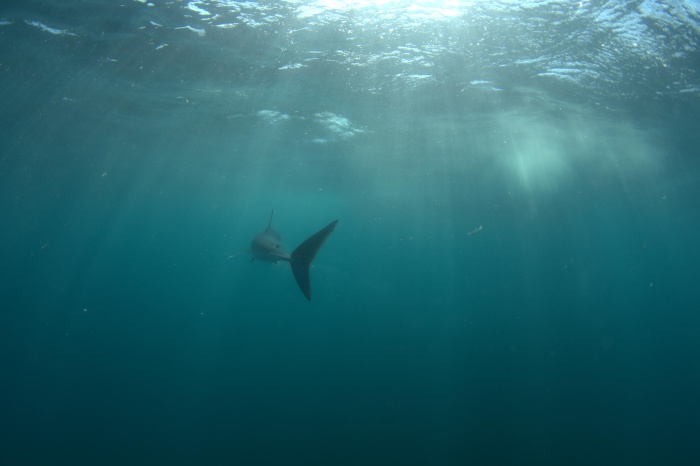Mako: (212, 190, 349, 308)
